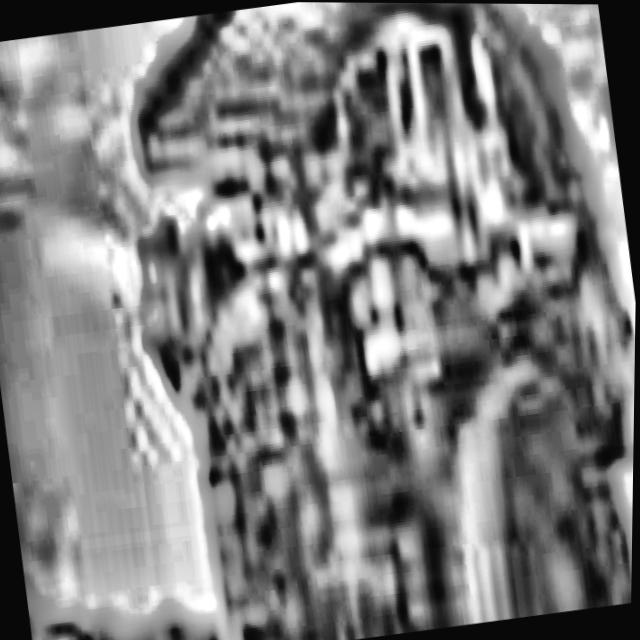dump_truck: (109, 1, 640, 640)
